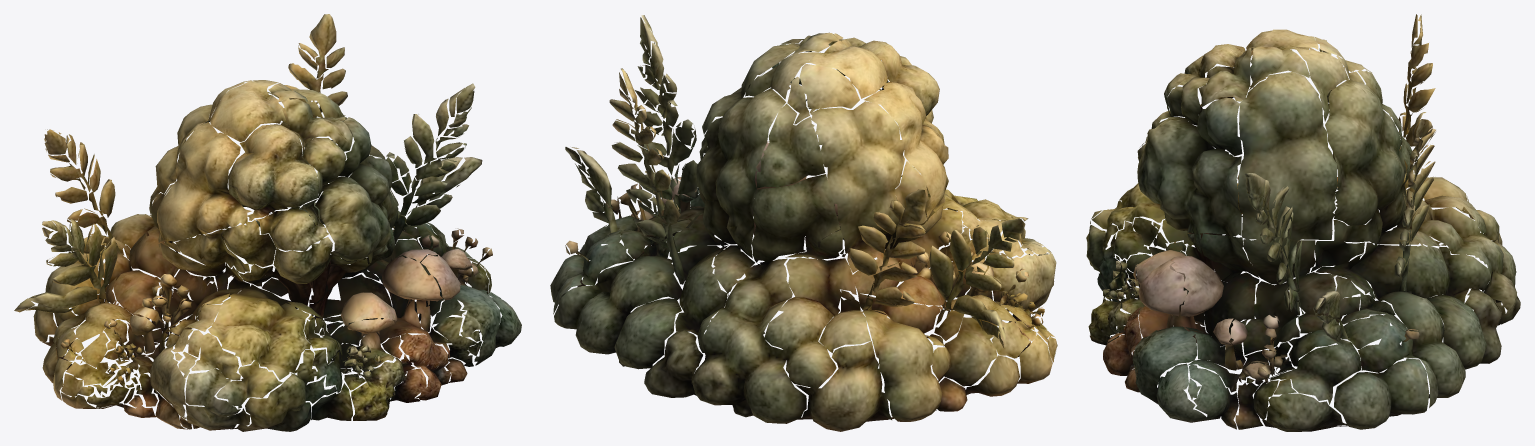
Rendered from mossy-shrub-cluster-game.glb.
3 renders of one model, left to right at view 1: azimuth 30°, elevation 25°; view 2: azimuth 150°, elevation 25°; view 3: azimuth 270°, elevation 25°, orthographic. The views are drawn at different scales.
Visible parts, largest first — view 1: tripo_node_8209b42b-76e1-4241-bf92-f70f1d357e8a; view 2: tripo_node_8209b42b-76e1-4241-bf92-f70f1d357e8a; view 3: tripo_node_8209b42b-76e1-4241-bf92-f70f1d357e8a.
Part boxes in pixels (box(x1,y1,x2,y2)): tripo_node_8209b42b-76e1-4241-bf92-f70f1d357e8a: box(14, 14, 521, 431); tripo_node_8209b42b-76e1-4241-bf92-f70f1d357e8a: box(550, 15, 1057, 431); tripo_node_8209b42b-76e1-4241-bf92-f70f1d357e8a: box(1086, 14, 1520, 431).
Size of the model in its own units: 0.9775 by 0.5687 by 0.7868.
Materials: 1 (1 with a texture image).
